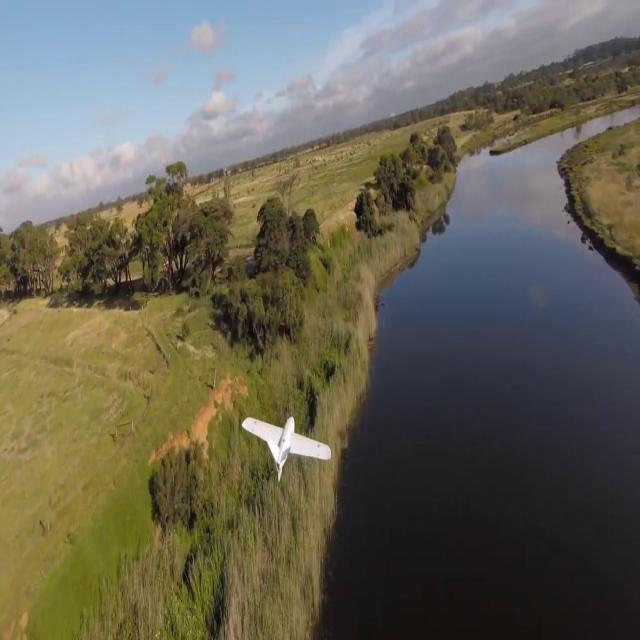iha: (273, 411, 303, 471)
